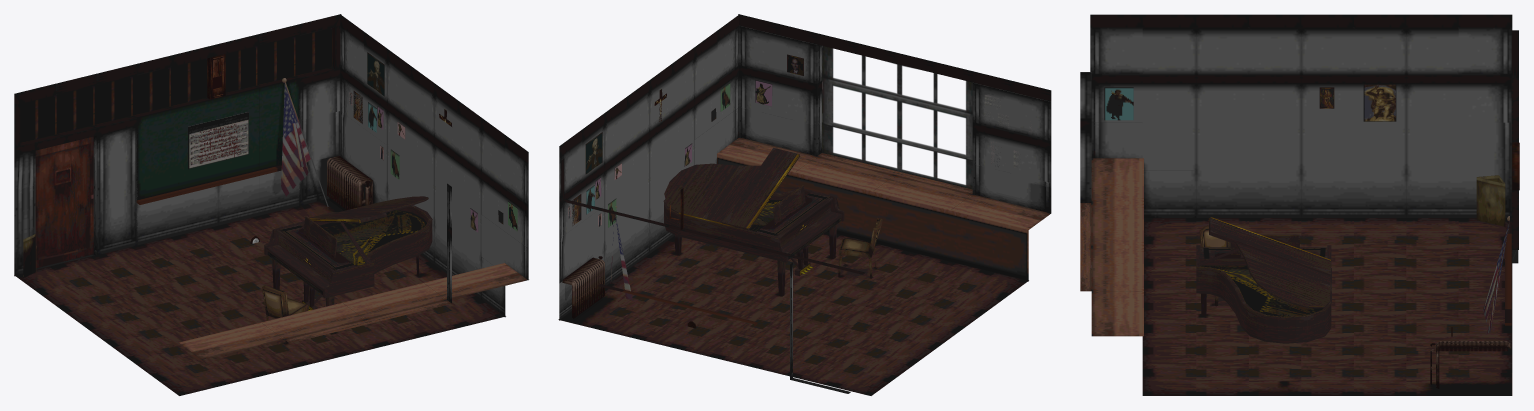
Rendered from SCFD00.glb.
The picture shows the model from 3 angles, left to right: view 1: azimuth 30°, elevation 25°; view 2: azimuth 150°, elevation 25°; view 3: azimuth 270°, elevation 25°; orthographic projection. The views are drawn at different scales.
Visible parts, largest first — view 1: NULL1_m0, W4_FAR_m0, W5_FAR_m0, W3_FAR_m0, NULL1_m4, NULL1_m1, PIANO2_F_m0, NULL_NEA_m1, NULL_NEA_m2, NULL_NEA_m0, NULL_NEA_m3, FUTA1_HI_m0 (+3 smaller); view 2: NULL1_m4, NULL1_m0, W5_FAR_m0, NULL_NEA_m2, NULL1_m1, NULL_NEA_m0, W4_FAR_m0, NULL_NEA_m3, FUTA1_HI_m0, NULL_NEA_m1, PIANO3_F_m0, FUTA2_HI_m0 (+2 smaller); view 3: NULL1_m2, NULL1_m0, NULL1_m4, NULL_NEA_m2, NULL1_m1, NULL_NEA_m1, PIANO2_F_m0, W4_FAR_m0, NULL_NEA_m0, NULL_NEA_m3, W3_FAR_m0.
Boxes of the visible parts, <box> form: NULL1_m0: <box>14,54,505,395</box>; W4_FAR_m0: <box>14,14,341,276</box>; W5_FAR_m0: <box>340,14,528,317</box>; W3_FAR_m0: <box>136,77,300,245</box>; NULL1_m4: <box>179,183,527,359</box>; NULL1_m1: <box>264,219,432,298</box>; PIANO2_F_m0: <box>299,205,432,266</box>; NULL_NEA_m1: <box>281,78,337,257</box>; NULL_NEA_m2: <box>262,196,428,343</box>; NULL_NEA_m0: <box>36,52,517,280</box>; NULL_NEA_m3: <box>327,156,372,210</box>; FUTA1_HI_m0: <box>265,228,336,294</box>; NULL1_m4: <box>717,14,1051,281</box>; NULL1_m0: <box>558,188,1028,395</box>; W5_FAR_m0: <box>559,14,739,320</box>; NULL_NEA_m2: <box>664,147,882,278</box>; NULL1_m1: <box>664,186,844,262</box>; NULL_NEA_m0: <box>568,54,1029,227</box>; W4_FAR_m0: <box>561,158,865,393</box>; NULL_NEA_m3: <box>562,256,604,321</box>; FUTA1_HI_m0: <box>775,196,843,259</box>; NULL_NEA_m1: <box>610,185,805,300</box>; PIANO3_F_m0: <box>674,224,836,296</box>; FUTA2_HI_m0: <box>777,197,842,254</box>; NULL1_m2: <box>1090,14,1512,217</box>; NULL1_m0: <box>1142,142,1519,395</box>; NULL1_m4: <box>1080,72,1143,336</box>; NULL_NEA_m2: <box>1197,217,1330,308</box>; NULL1_m1: <box>1196,245,1331,343</box>; NULL_NEA_m1: <box>1104,84,1509,333</box>; PIANO2_F_m0: <box>1198,258,1331,318</box>; W4_FAR_m0: <box>1511,30,1518,263</box>; NULL_NEA_m0: <box>1091,177,1505,274</box>; NULL_NEA_m3: <box>1430,341,1511,388</box>; W3_FAR_m0: <box>1505,233,1511,325</box>.
Size of the model in its own units: 6.44 by 3.54 by 6.7.
Materials: 29 (29 with a texture image).
